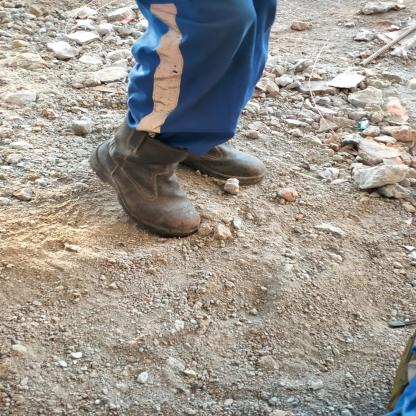bota: (87, 121, 204, 235), (185, 130, 264, 183)
